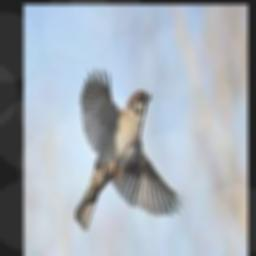Sparrow: (75, 66, 185, 231)
